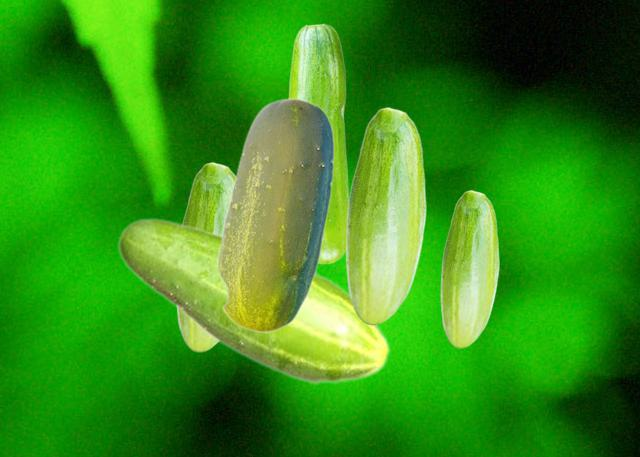cucumber: (117, 217, 390, 385), (216, 97, 333, 332), (345, 107, 425, 324), (288, 23, 348, 263), (176, 162, 234, 351), (440, 190, 498, 347)
